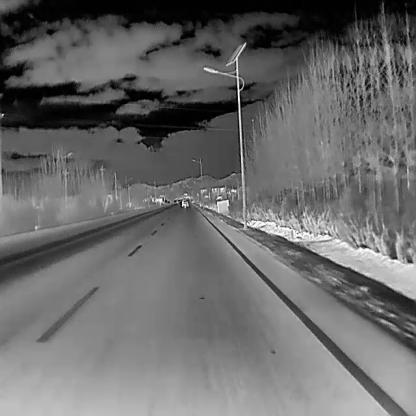car: (180, 198, 188, 206)
